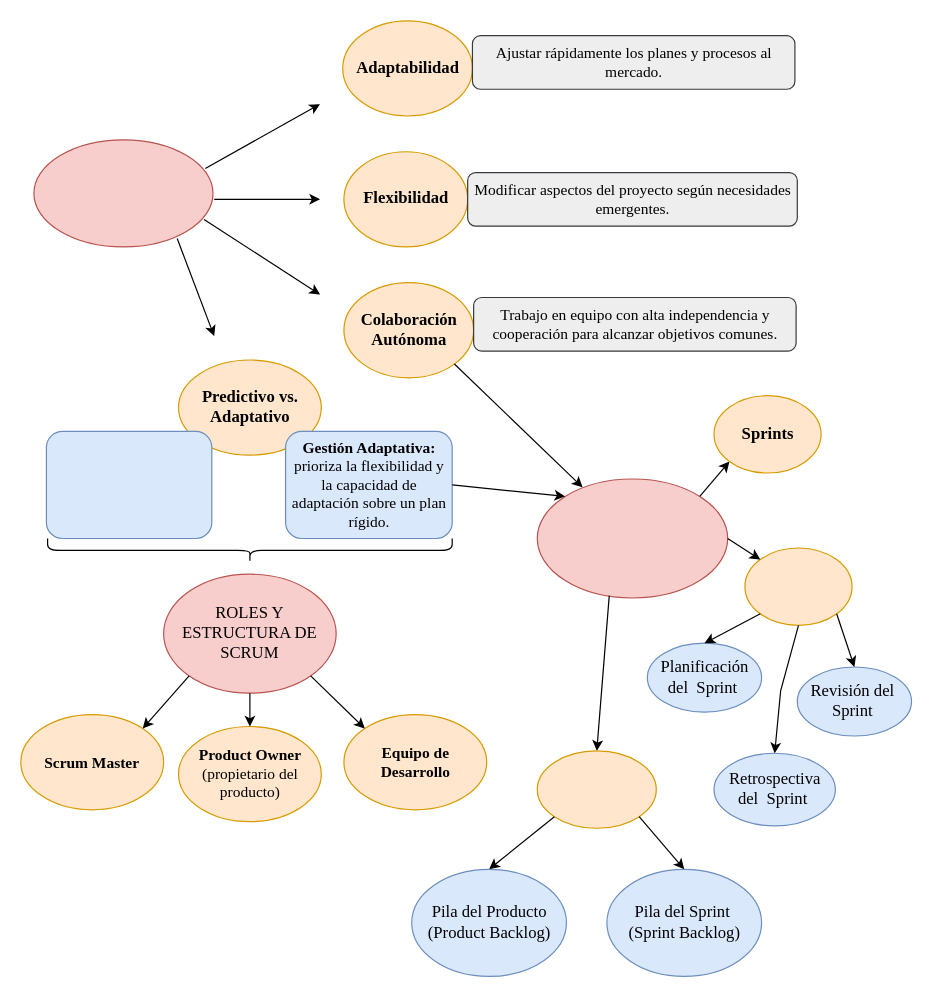
Image size: 933x997. Some labels were removed from this diagram. Here are the shapes that lost their labels. From the top down, the centre of each, then its label:
At point (123, 193): "PRINCIPIOS FUNDAMENTALES".
At point (128, 484): "Gestión Predictiva: planificación detallada y exhaustiva al inicio del proyecto".
At point (632, 538): "PROCESO DE SCRUM".
At point (798, 586): "Eventos de Scrum".
At point (596, 789): "Artefactos de Scrum".
